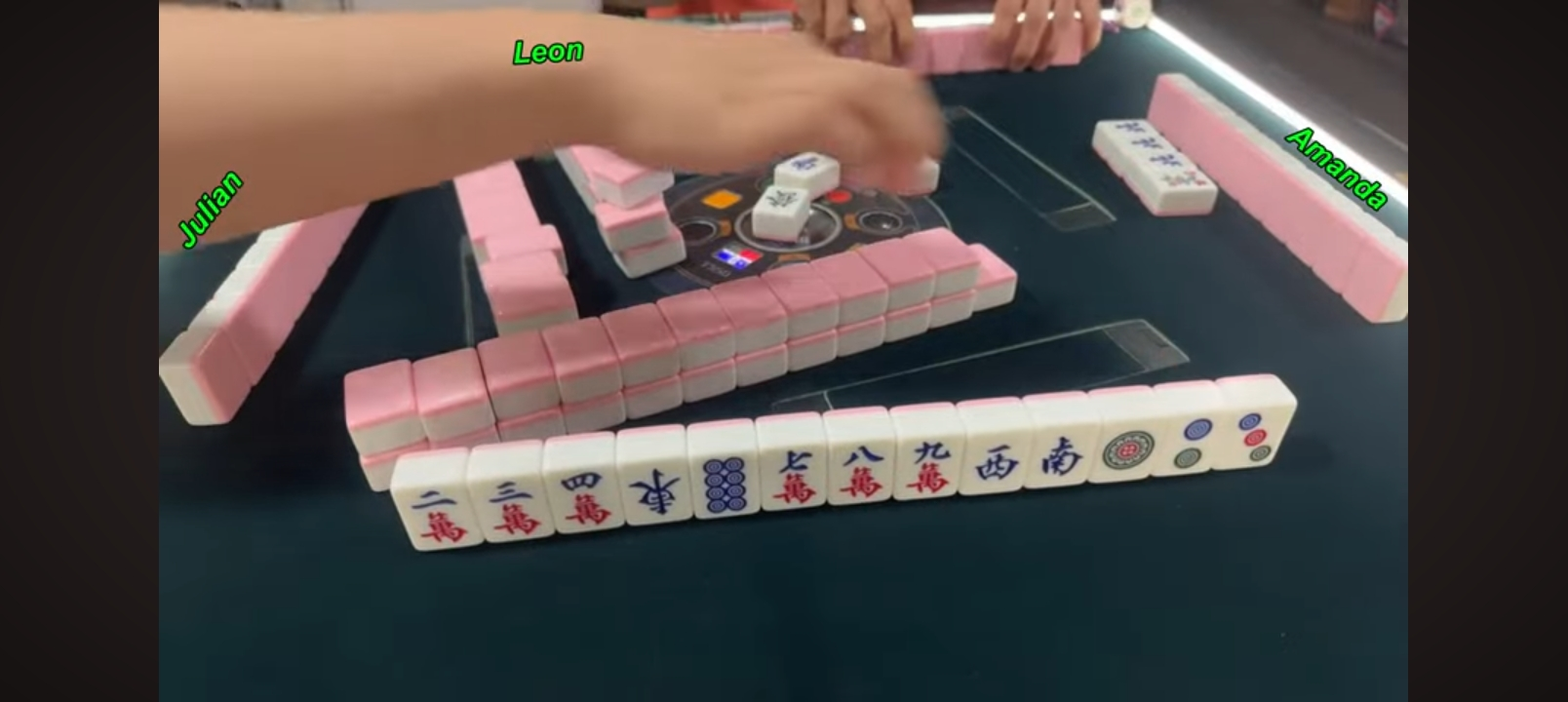TILE: (387, 482, 482, 548), (467, 476, 552, 537), (544, 465, 625, 528), (618, 459, 691, 525), (689, 453, 760, 518), (1028, 423, 1100, 486), (1223, 406, 1295, 468), (962, 430, 1032, 493), (1091, 419, 1162, 481), (762, 448, 829, 511), (1161, 411, 1228, 474), (830, 441, 896, 503), (897, 436, 963, 497)
